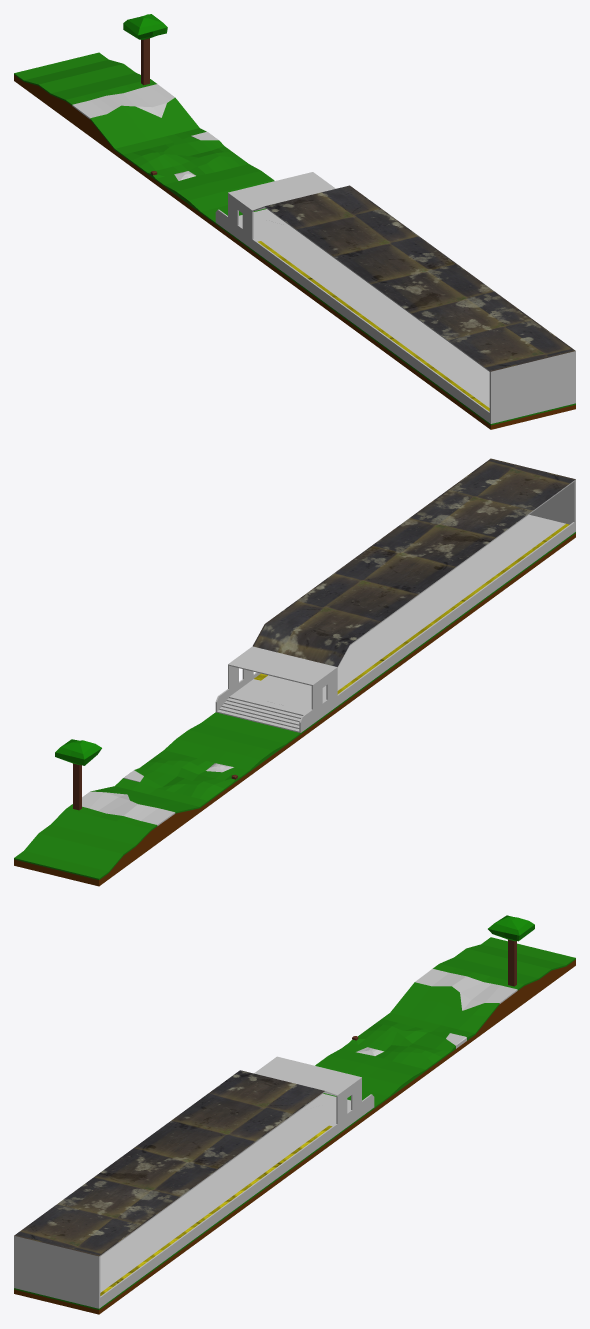
The model's file is buzr.fbx.
3 views of the same model, one above another, from view 1: azimuth 30°, elevation 25°; view 2: azimuth 150°, elevation 25°; view 3: azimuth 330°, elevation 25° (orthographic).
Parts seen in each view (by area): view 1: Terrain; view 2: Terrain; view 3: Terrain.
Boxes of the visible parts, <box> form: Terrain: <box>14,14,575,429</box>; Terrain: <box>14,458,575,886</box>; Terrain: <box>14,915,575,1314</box>.
Size of the model in its own units: 4290 by 3894 by 38800.
